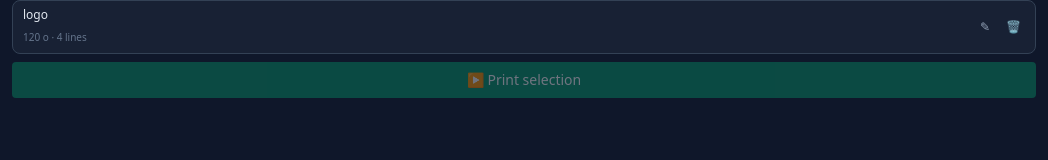
Scenario: GcodeFilesPanel › lists saved files and enables Print once one is selected
The image size is (1048, 160).
Expected: the list item with test id "gcode-file-f1" is shown, [12,0,1036,54]
Expected: the button with test id "gcode-print-selected" is disabled, [12,62,1036,98]
Click the button with test id "gcode-file-select-f1".
click(55, 37)  # box [23,7,968,47]
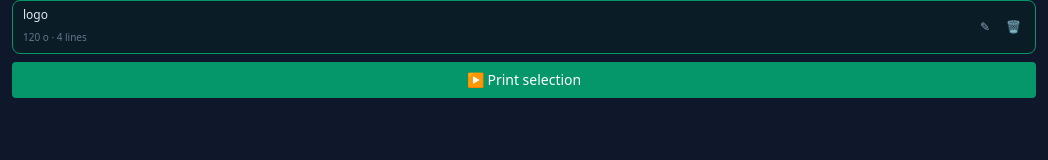
Now the button with test id "gcode-print-selected" is enabled, box [12,62,1036,98]
